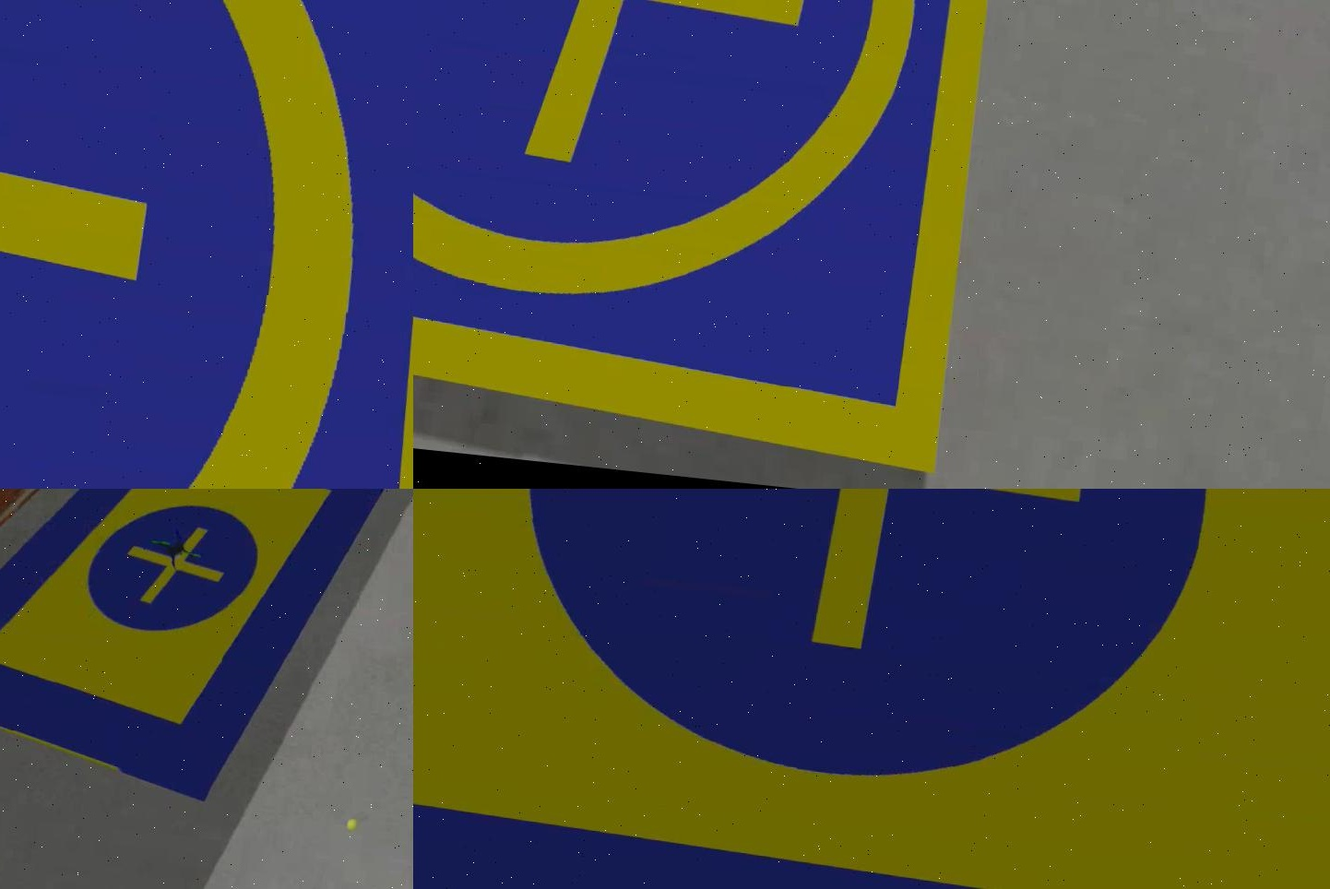large_base: (411, 490, 1328, 889), (0, 490, 396, 819)
small_base: (411, 1, 1015, 473), (0, 1, 411, 490)
